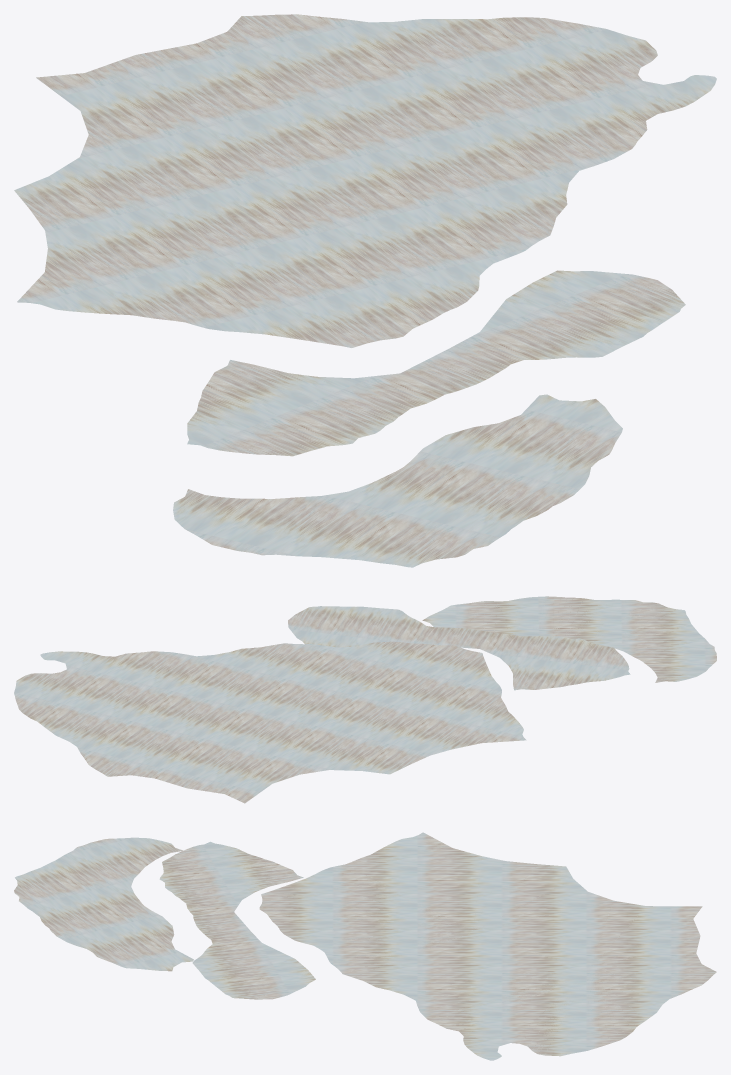
File: M5_T_shanti001.FBX
3 views of the same model, one above another, from view 1: azimuth 30°, elevation 25°; view 2: azimuth 150°, elevation 25°; view 3: azimuth 270°, elevation 25° (orthographic). The views are drawn at different scales.
Visible parts, largest first — view 1: M5_T_shanti001; view 2: M5_T_shanti001; view 3: M5_T_shanti001.
Part boxes in pixels (x1,y1,x2,y2): M5_T_shanti001: (14, 14, 716, 567); M5_T_shanti001: (14, 596, 716, 803); M5_T_shanti001: (14, 832, 716, 1060).
Size of the model in its own units: 5611 by 263 by 6721.
